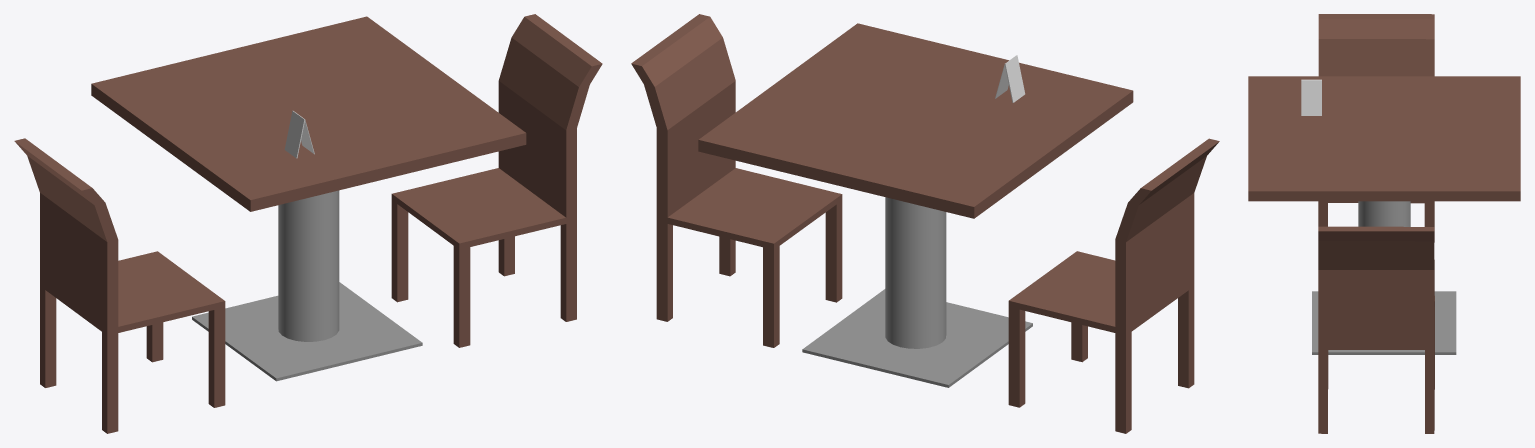
File: TableGroup.fbx
The picture shows the model from 3 angles, left to right: view 1: azimuth 30°, elevation 25°; view 2: azimuth 150°, elevation 25°; view 3: azimuth 270°, elevation 25°; orthographic projection. The views are drawn at different scales.
Visible parts, largest first — view 1: Table, Chair; view 2: Table, Chair; view 3: Table, Chair.
Part boxes in pixels (x1,y1,x2,y2): Table: (91,16,526,381); Chair: (14,14,602,433); Table: (698,23,1133,387); Chair: (631,14,1219,433); Table: (1248,76,1520,354); Chair: (1318,14,1434,433).
Size of the model in its own units: 288 by 146 by 152.
